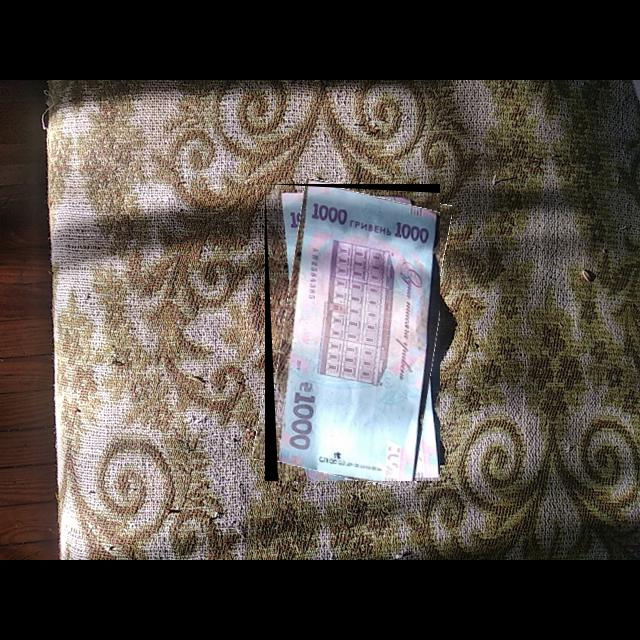1000uah: (265, 184, 441, 482)
